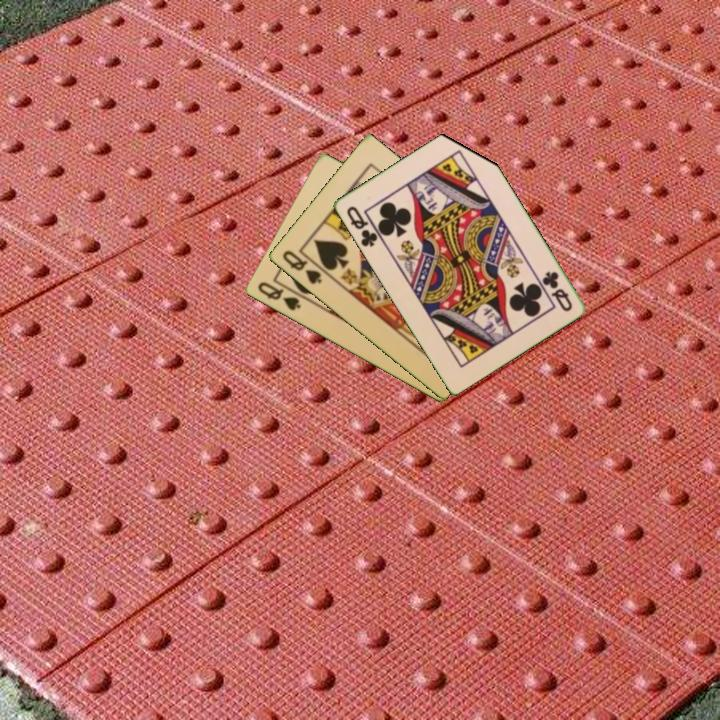Qc: (343, 202, 380, 250), (538, 267, 575, 315)
Qs: (278, 247, 325, 287), (254, 278, 303, 314)
